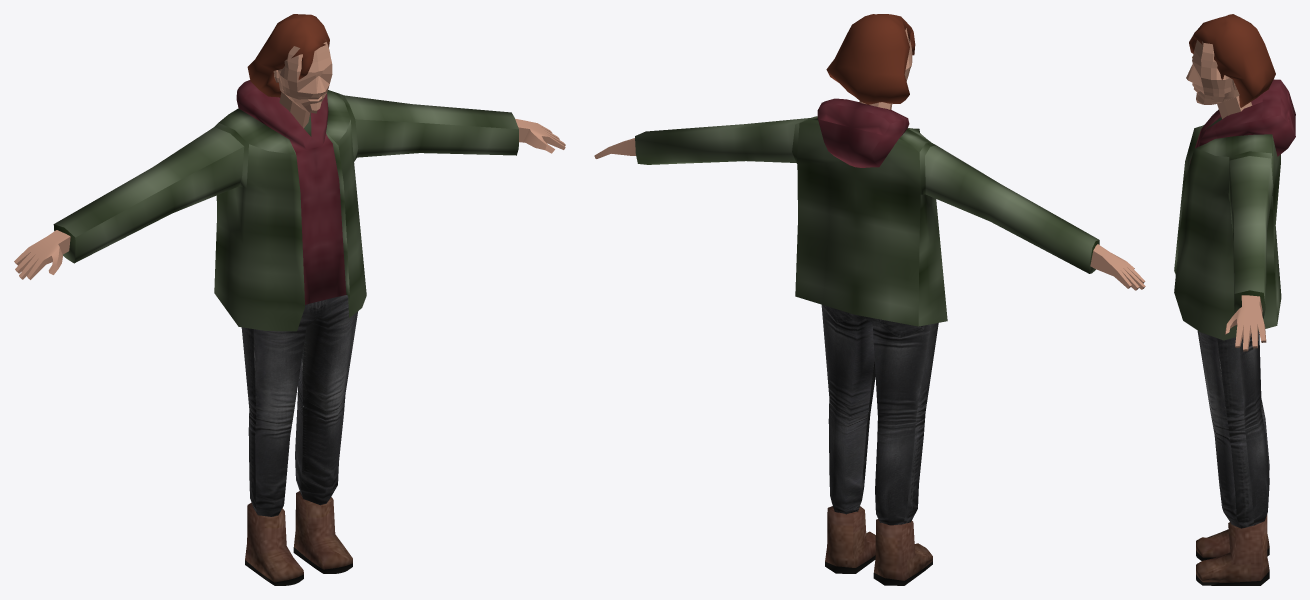
File: shelter_occupant_Tpose.fbx
The picture shows the model from 3 angles, left to right: view 1: azimuth 30°, elevation 25°; view 2: azimuth 150°, elevation 25°; view 3: azimuth 270°, elevation 25°; orthographic projection.
Visible parts, largest first — view 1: jacket, Jeans, boots, Sphere, hand, Plane; view 2: jacket, Jeans, Sphere, boots, hand; view 3: jacket, Jeans, Sphere, boots, Plane, hand, Cylinder.001.
Boxes of the visible parts, <box> form: jacket: <box>53,80,518,331</box>; Jeans: <box>241,295,357,516</box>; boots: <box>245,491,352,585</box>; Sphere: <box>247,14,329,97</box>; hand: <box>14,118,565,279</box>; Plane: <box>277,41,332,113</box>; jacket: <box>635,98,1099,326</box>; Jeans: <box>821,305,938,525</box>; Sphere: <box>826,14,915,104</box>; boots: <box>825,506,932,585</box>; hand: <box>594,138,1145,290</box>; jacket: <box>1174,79,1295,340</box>; Jeans: <box>1197,331,1269,528</box>; Sphere: <box>1189,14,1275,107</box>; boots: <box>1196,514,1269,585</box>; Plane: <box>1186,40,1237,104</box>; hand: <box>1225,295,1266,351</box>; Cylinder.001: <box>1217,96,1252,118</box>.
Bounding box in the file's own units: 276 × 266 × 53.5.
Materials: 11 (4 with a texture image).
